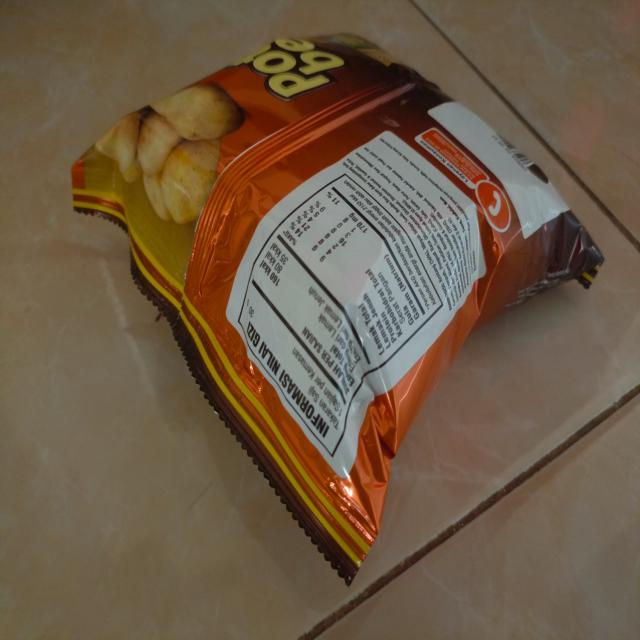potabee-ayam-bakar: (68, 33, 603, 586)
